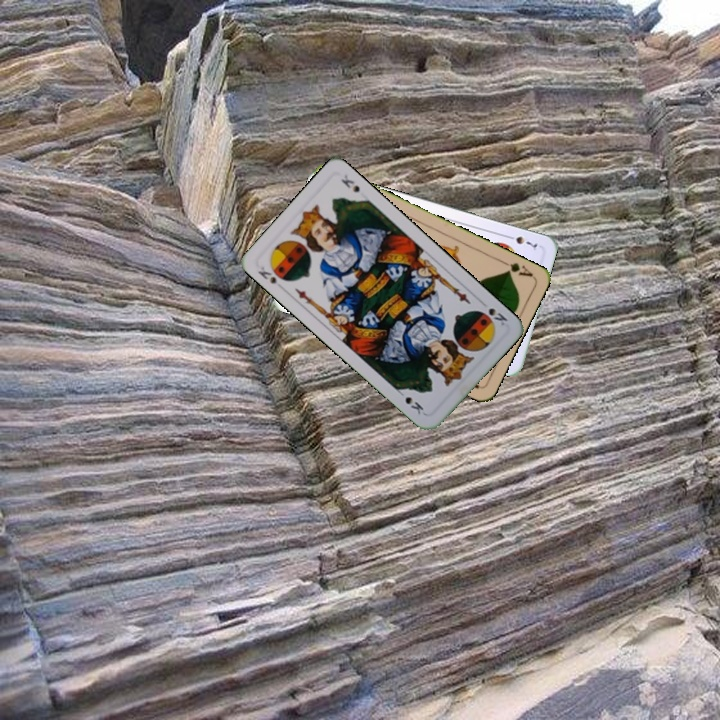GA: (497, 256, 536, 280)
S7: (502, 231, 540, 250)
SK: (254, 261, 290, 287), (484, 304, 510, 330)
